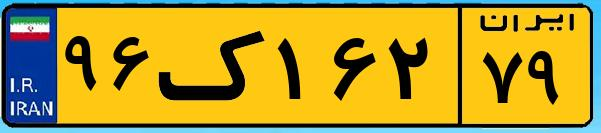1: (270, 28, 330, 110)
2: (385, 28, 445, 110)
6: (330, 28, 385, 110), (110, 28, 158, 98)
7: (475, 38, 525, 113)
9: (57, 26, 110, 100), (525, 38, 570, 115)
ک: (158, 12, 270, 120)
